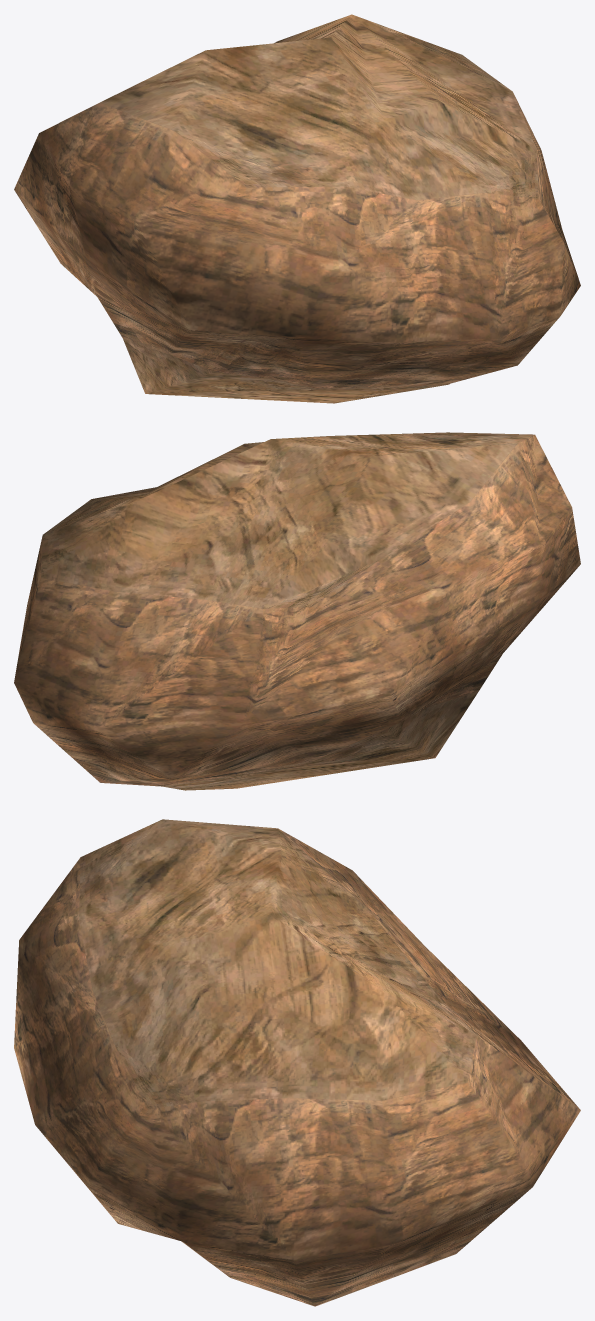
File: rock_tatt_bensmesa_boulder_a4_l1.fbx
3 views of the same model, one above another, from view 1: azimuth 30°, elevation 25°; view 2: azimuth 150°, elevation 25°; view 3: azimuth 270°, elevation 25° (orthographic). The views are drawn at different scales.
Parts seen in each view (by area): view 1: mesh_node; view 2: mesh_node; view 3: mesh_node.
Part boxes in pixels (left/top/right/bottom): mesh_node: left=14, top=14, right=580, bottom=403; mesh_node: left=14, top=432, right=580, bottom=790; mesh_node: left=14, top=819, right=580, bottom=1306.
Size of the model in its own units: 4.26 by 3.07 by 4.42.
